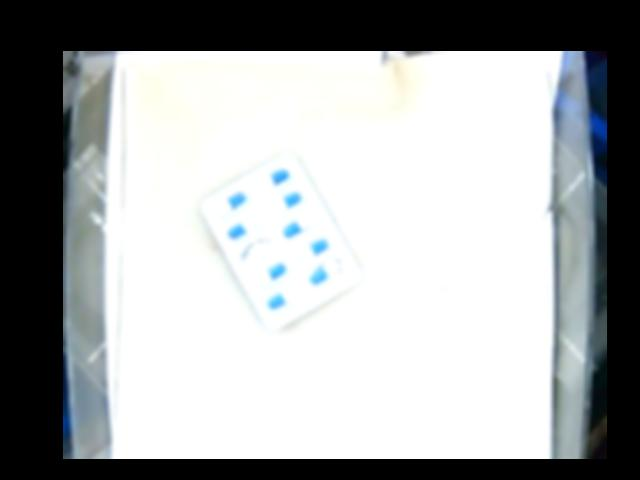Medicine: (198, 149, 362, 330)
